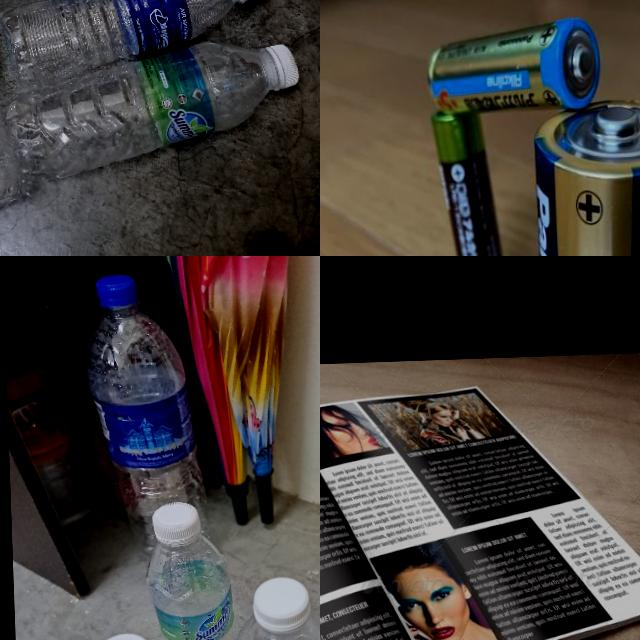bateria: (424, 13, 604, 119), (529, 95, 640, 256), (428, 97, 512, 256)
garrafa plástica: (19, 40, 282, 175), (80, 302, 208, 555), (2, 0, 245, 82), (145, 531, 241, 640)
papel: (320, 378, 640, 640)
tampa plástica: (251, 575, 311, 629), (266, 38, 304, 96), (152, 501, 200, 544), (94, 274, 136, 306)
